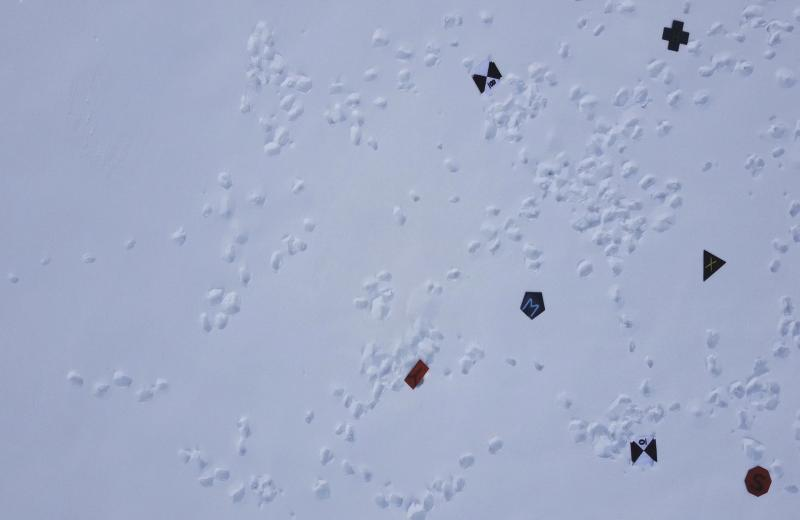Cross: (660, 17, 691, 52)
Octagon: (740, 461, 775, 503)
Pentagon: (516, 286, 548, 322)
Rectangle: (399, 356, 435, 393)
Triangle: (695, 243, 729, 285)
